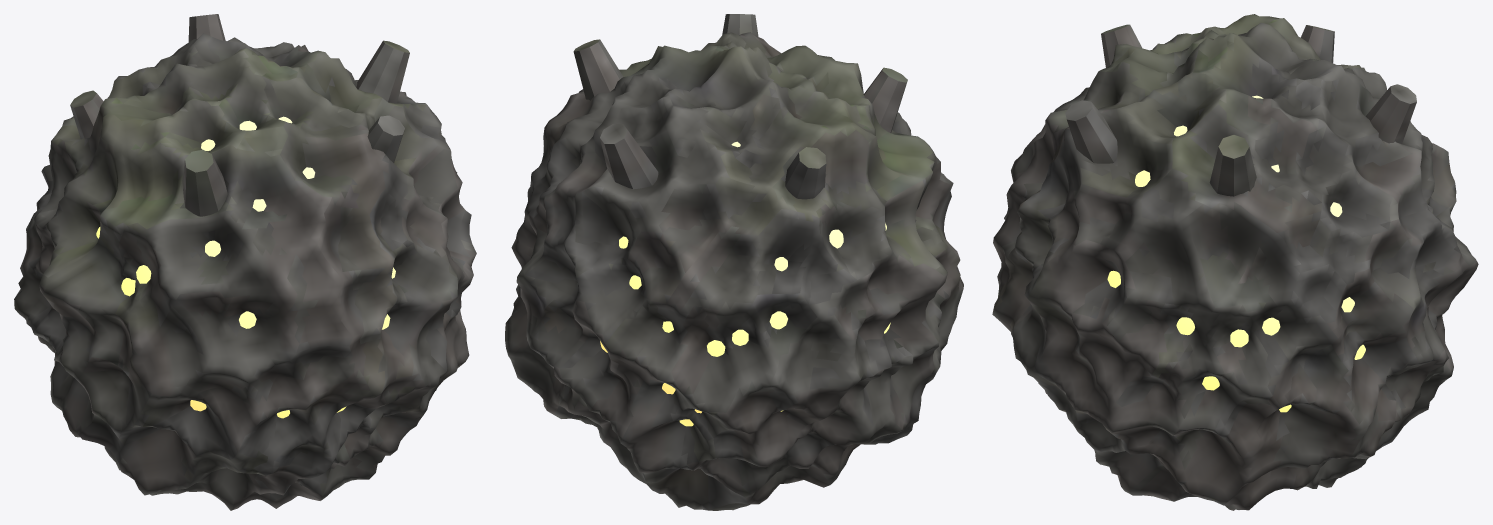
File: burnt.glb
3 renders of one model, left to right at view 1: azimuth 30°, elevation 25°; view 2: azimuth 150°, elevation 25°; view 3: azimuth 270°, elevation 25°, orthographic. The views are drawn at different scales.
Parts seen in each view (by area): view 1: stone_dark, glow_fire; view 2: stone_dark, glow_fire; view 3: stone_dark, glow_fire.
Boxes of the visible parts, box(x1,y1,x2,y2) form: stone_dark: box(14, 14, 476, 510); glow_fire: box(96, 116, 395, 418); stone_dark: box(505, 14, 963, 510); glow_fire: box(600, 141, 890, 426); stone_dark: box(992, 14, 1478, 510); glow_fire: box(1107, 95, 1365, 412).
Bounding box in the file's own units: 0.3809 × 0.3888 × 0.3788.
Materials: 2 (1 with a texture image).
